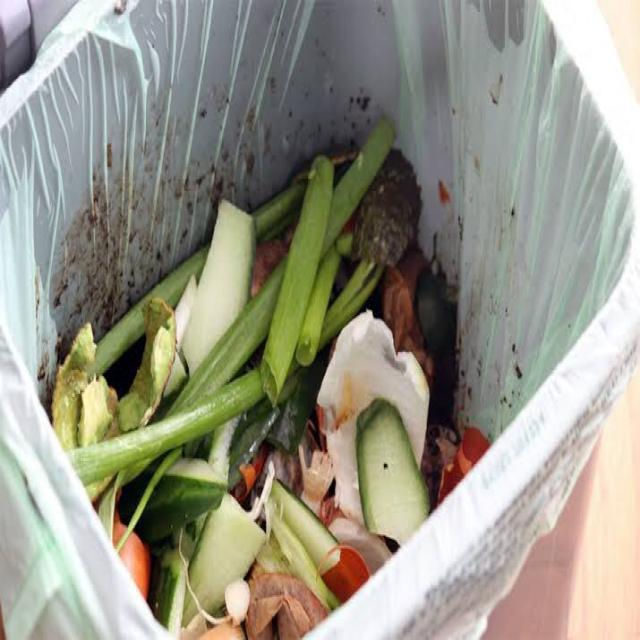Dry: (437, 423, 499, 503)
Wet: (99, 412, 381, 640), (52, 194, 257, 498), (260, 112, 398, 408), (356, 394, 427, 546)
